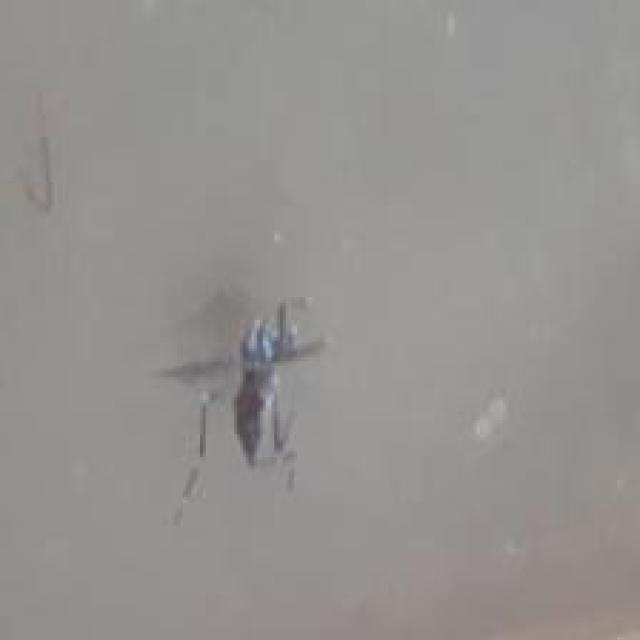Aedes albopictus: (156, 287, 327, 524)
